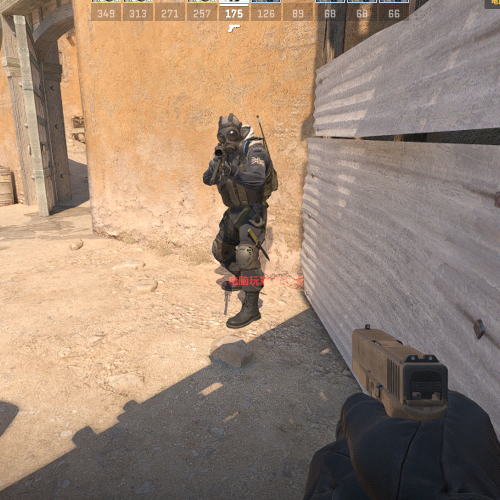ct_body: (203, 114, 274, 329)
ct_head: (213, 114, 242, 149)
